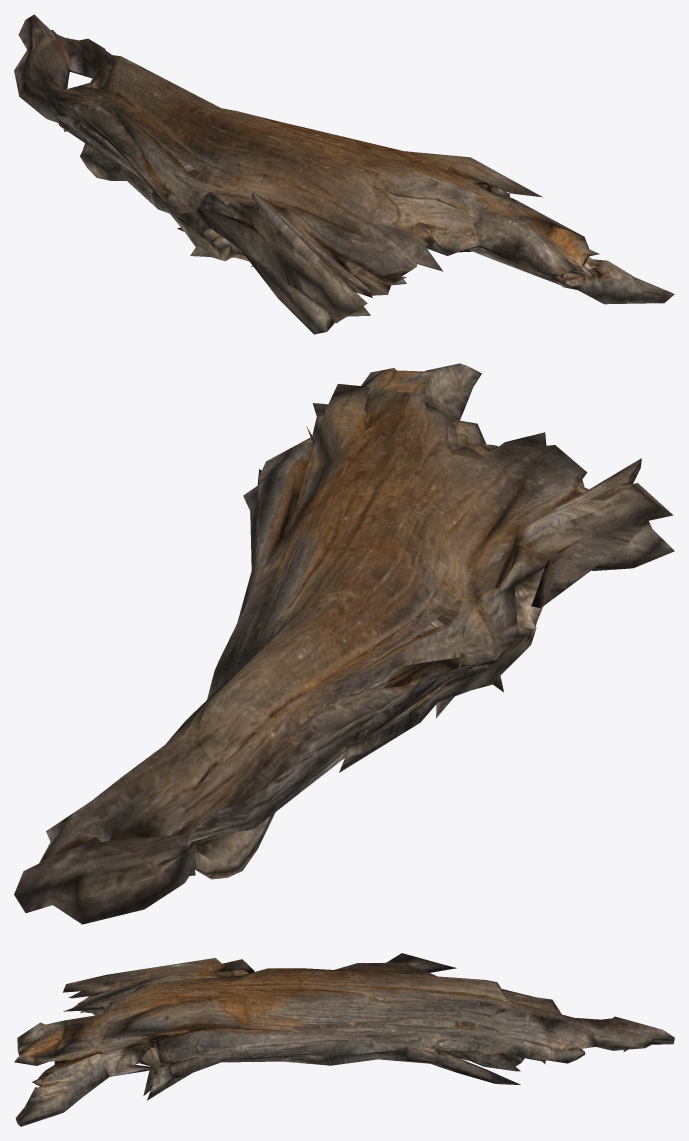
Rendered from bark_debris_01_b_LOD1.glb.
3 renders of one model, top to bottom at view 1: azimuth 30°, elevation 25°; view 2: azimuth 150°, elevation 25°; view 3: azimuth 270°, elevation 25°, orthographic. The views are drawn at different scales.
Parts seen in each view (by area): view 1: bark_debris_01_b_LOD1__lodS; view 2: bark_debris_01_b_LOD1__lodS; view 3: bark_debris_01_b_LOD1__lodS.
Boxes of the visible parts, x1,y1,x2,y2 form: bark_debris_01_b_LOD1__lodS: (14,14,674,334); bark_debris_01_b_LOD1__lodS: (14,363,674,924); bark_debris_01_b_LOD1__lodS: (14,953,674,1126).
Size of what is drawn, in the model's own units: 0.2035 by 0.0878 by 0.4613.
Materials: 1 (1 with a texture image).
